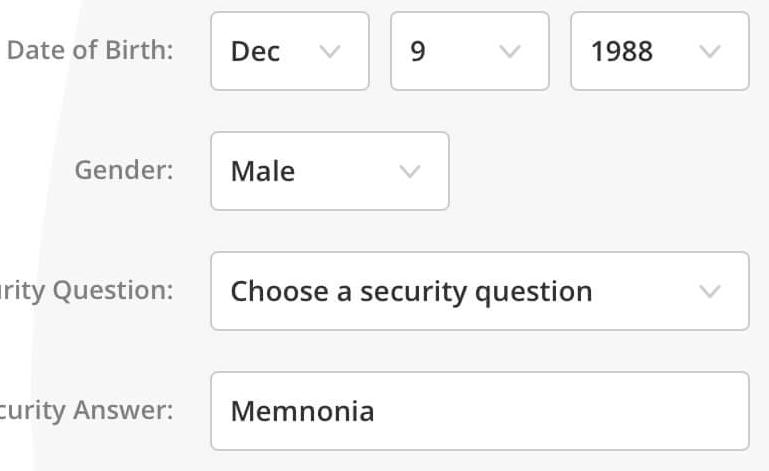field: (201, 367, 751, 451)
